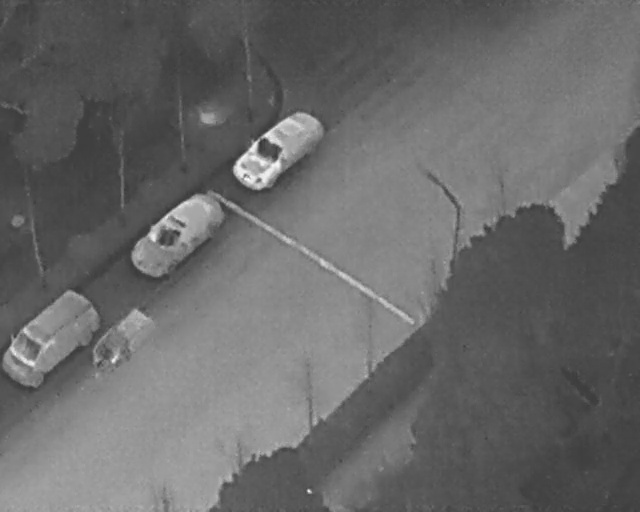Car: (121, 183, 230, 287), (226, 99, 329, 199), (0, 289, 98, 386)
OtherVehicle: (88, 305, 157, 378)
